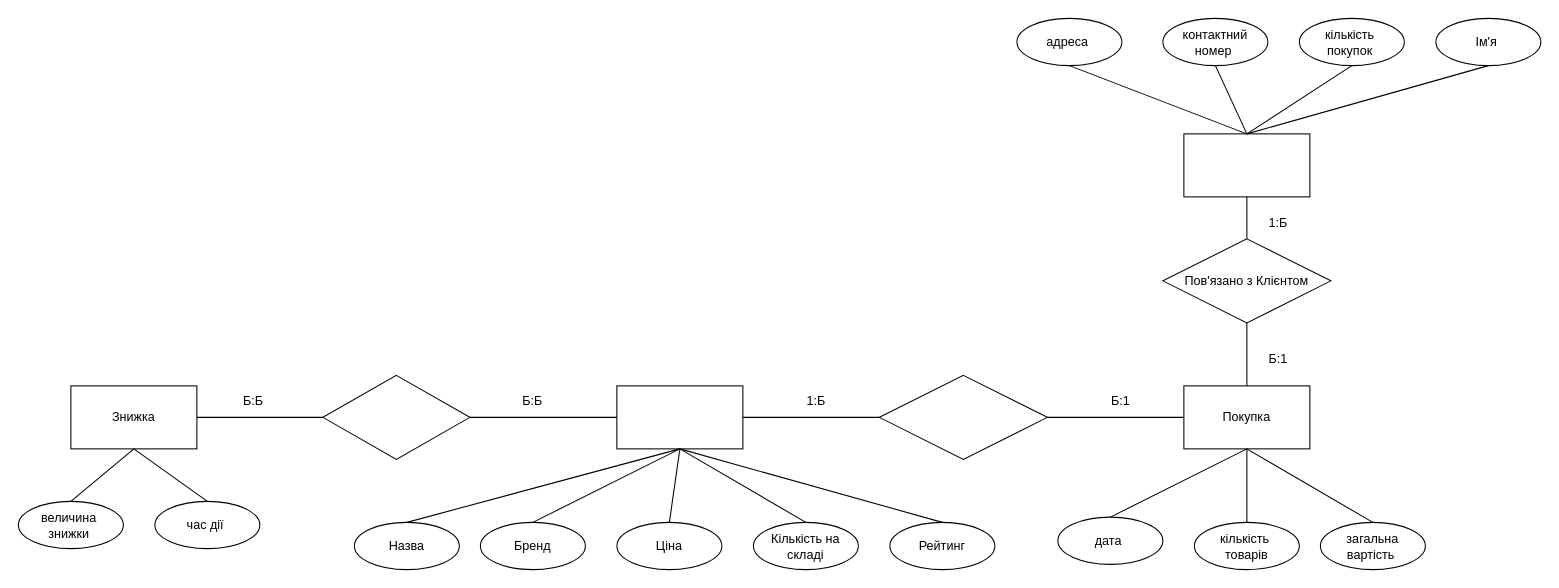
Some shapes in this 1559 by 588 pixel diagram are drawn without their labels. The centre of each missing label's shape, as x and y in pixels:
"Клієнт" goes at (1246,165).
"Має Знижку" goes at (396,416).
"Пов'язано з Товаром" goes at (962,416).
"Товар" goes at (679,417).
